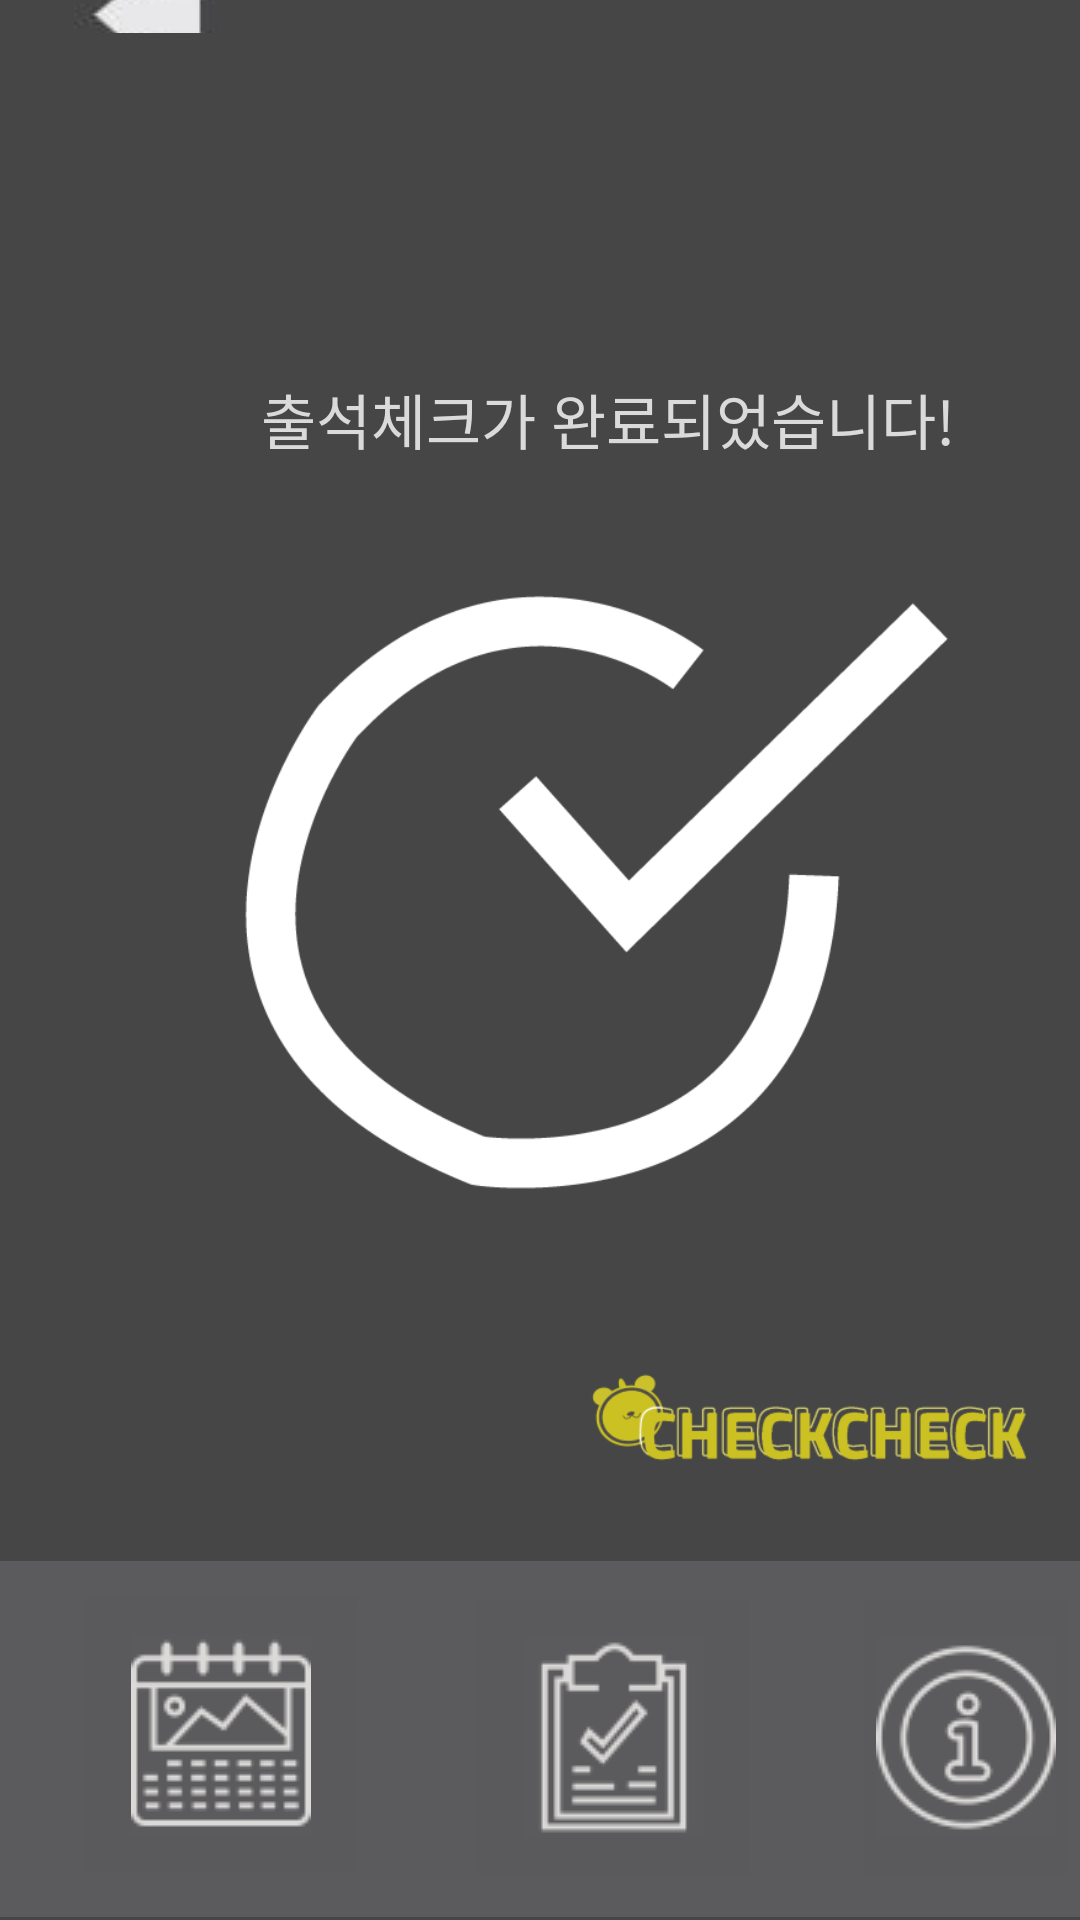

Icon bounding boxes for this 1080*1920 phone screenshot, format (x1, y1, x2, y2):
cal: (131, 1641, 311, 1827)
doc: (541, 1642, 687, 1832)
